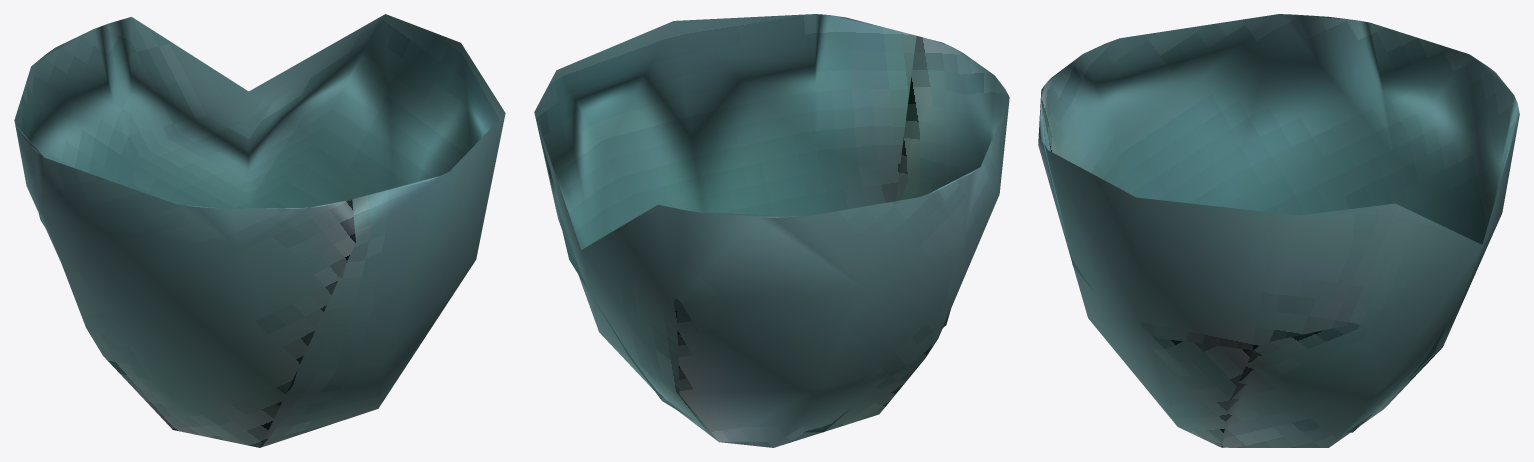
The model's file is Ecoforms_Plant_Bowl_Turquoise_7-low.glb.
The picture shows the model from 3 angles, left to right: view 1: azimuth 30°, elevation 25°; view 2: azimuth 150°, elevation 25°; view 3: azimuth 270°, elevation 25°; orthographic projection. The views are drawn at different scales.
Visible parts, largest first — view 1: Ecoforms_Plant_Bowl_Turquoise_7; view 2: Ecoforms_Plant_Bowl_Turquoise_7; view 3: Ecoforms_Plant_Bowl_Turquoise_7.
Part boxes in pixels (box(x1,y1,x2,y2)): Ecoforms_Plant_Bowl_Turquoise_7: box(14, 14, 505, 447); Ecoforms_Plant_Bowl_Turquoise_7: box(534, 14, 1009, 447); Ecoforms_Plant_Bowl_Turquoise_7: box(1038, 14, 1519, 447).
Bounding box in the file's own units: 0.1813 × 0.1217 × 0.1803.
1 material, 1 textured.
